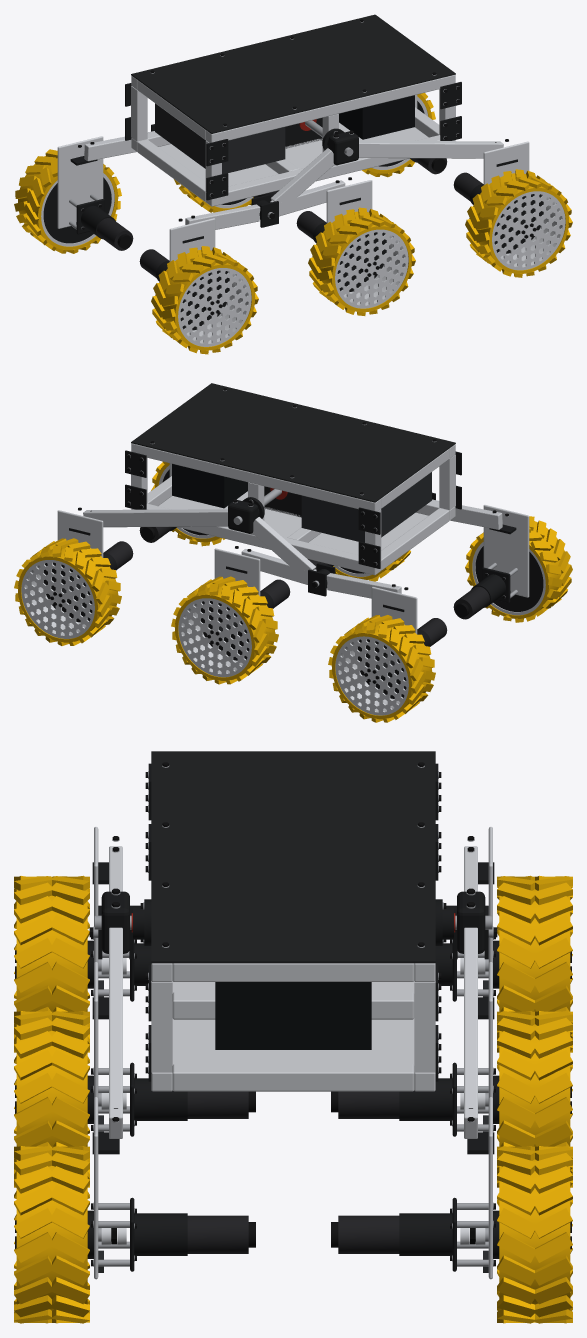
Rendered from taykut2027.lod0.glb.
3 renders of one model, top to bottom at view 1: azimuth 30°, elevation 25°; view 2: azimuth 150°, elevation 25°; view 3: azimuth 270°, elevation 25°, orthographic. The views are drawn at different scales.
Parts seen in each view (by area): view 1: body_mesh, wheel_FR_mesh, wheel_MR_mesh, wheel_RR_mesh, rocker_R_mesh, bogie_R_mesh, bogie_L_mesh, wheel_RL_mesh, wheel_FL_mesh, wheel_ML_mesh, rocker_L_mesh; view 2: body_mesh, wheel_FL_mesh, wheel_RL_mesh, wheel_ML_mesh, rocker_L_mesh, bogie_L_mesh, bogie_R_mesh, wheel_RR_mesh, wheel_FR_mesh, wheel_MR_mesh, rocker_R_mesh; view 3: body_mesh, wheel_FR_mesh, wheel_FL_mesh, rocker_L_mesh, rocker_R_mesh, wheel_MR_mesh, wheel_ML_mesh, wheel_RR_mesh, wheel_RL_mesh, bogie_L_mesh, bogie_R_mesh.
Part boxes in pixels (box(x1,y1,x2,y2)): body_mesh: box(125, 14, 461, 206); wheel_FR_mesh: box(465, 169, 572, 277); wheel_MR_mesh: box(308, 207, 415, 315); wheel_RR_mesh: box(151, 246, 258, 354); rocker_R_mesh: box(251, 120, 529, 227); bogie_R_mesh: box(139, 177, 372, 281); bogie_L_mesh: box(57, 131, 278, 250); wheel_RL_mesh: box(14, 149, 121, 253); wheel_FL_mesh: box(362, 93, 435, 177); wheel_ML_mesh: box(174, 179, 253, 212); rocker_L_mesh: box(151, 94, 447, 174); body_mesh: box(125, 383, 461, 575); wheel_FL_mesh: box(14, 538, 121, 645); wheel_RL_mesh: box(328, 615, 435, 722); wheel_ML_mesh: box(171, 576, 278, 684); rocker_L_mesh: box(57, 489, 335, 596); bogie_L_mesh: box(214, 546, 447, 646); bogie_R_mesh: box(308, 499, 529, 619); wheel_RR_mesh: box(465, 516, 572, 622); wheel_FR_mesh: box(151, 461, 224, 546); wheel_MR_mesh: box(333, 550, 410, 581); rocker_R_mesh: box(139, 463, 435, 542); body_mesh: box(131, 751, 455, 1091); wheel_FR_mesh: box(14, 1146, 111, 1323); wheel_FL_mesh: box(475, 1146, 572, 1323); rocker_L_mesh: box(331, 888, 499, 1279); rocker_R_mesh: box(87, 888, 255, 1279); wheel_MR_mesh: box(14, 1011, 101, 1187); wheel_ML_mesh: box(485, 1011, 572, 1187); wheel_RR_mesh: box(14, 875, 101, 1052); wheel_RL_mesh: box(485, 875, 572, 1052); bogie_L_mesh: box(331, 827, 499, 1136); bogie_R_mesh: box(87, 827, 255, 1136).
Size of the model in its own units: 1.15 by 0.5081 by 0.7871.
